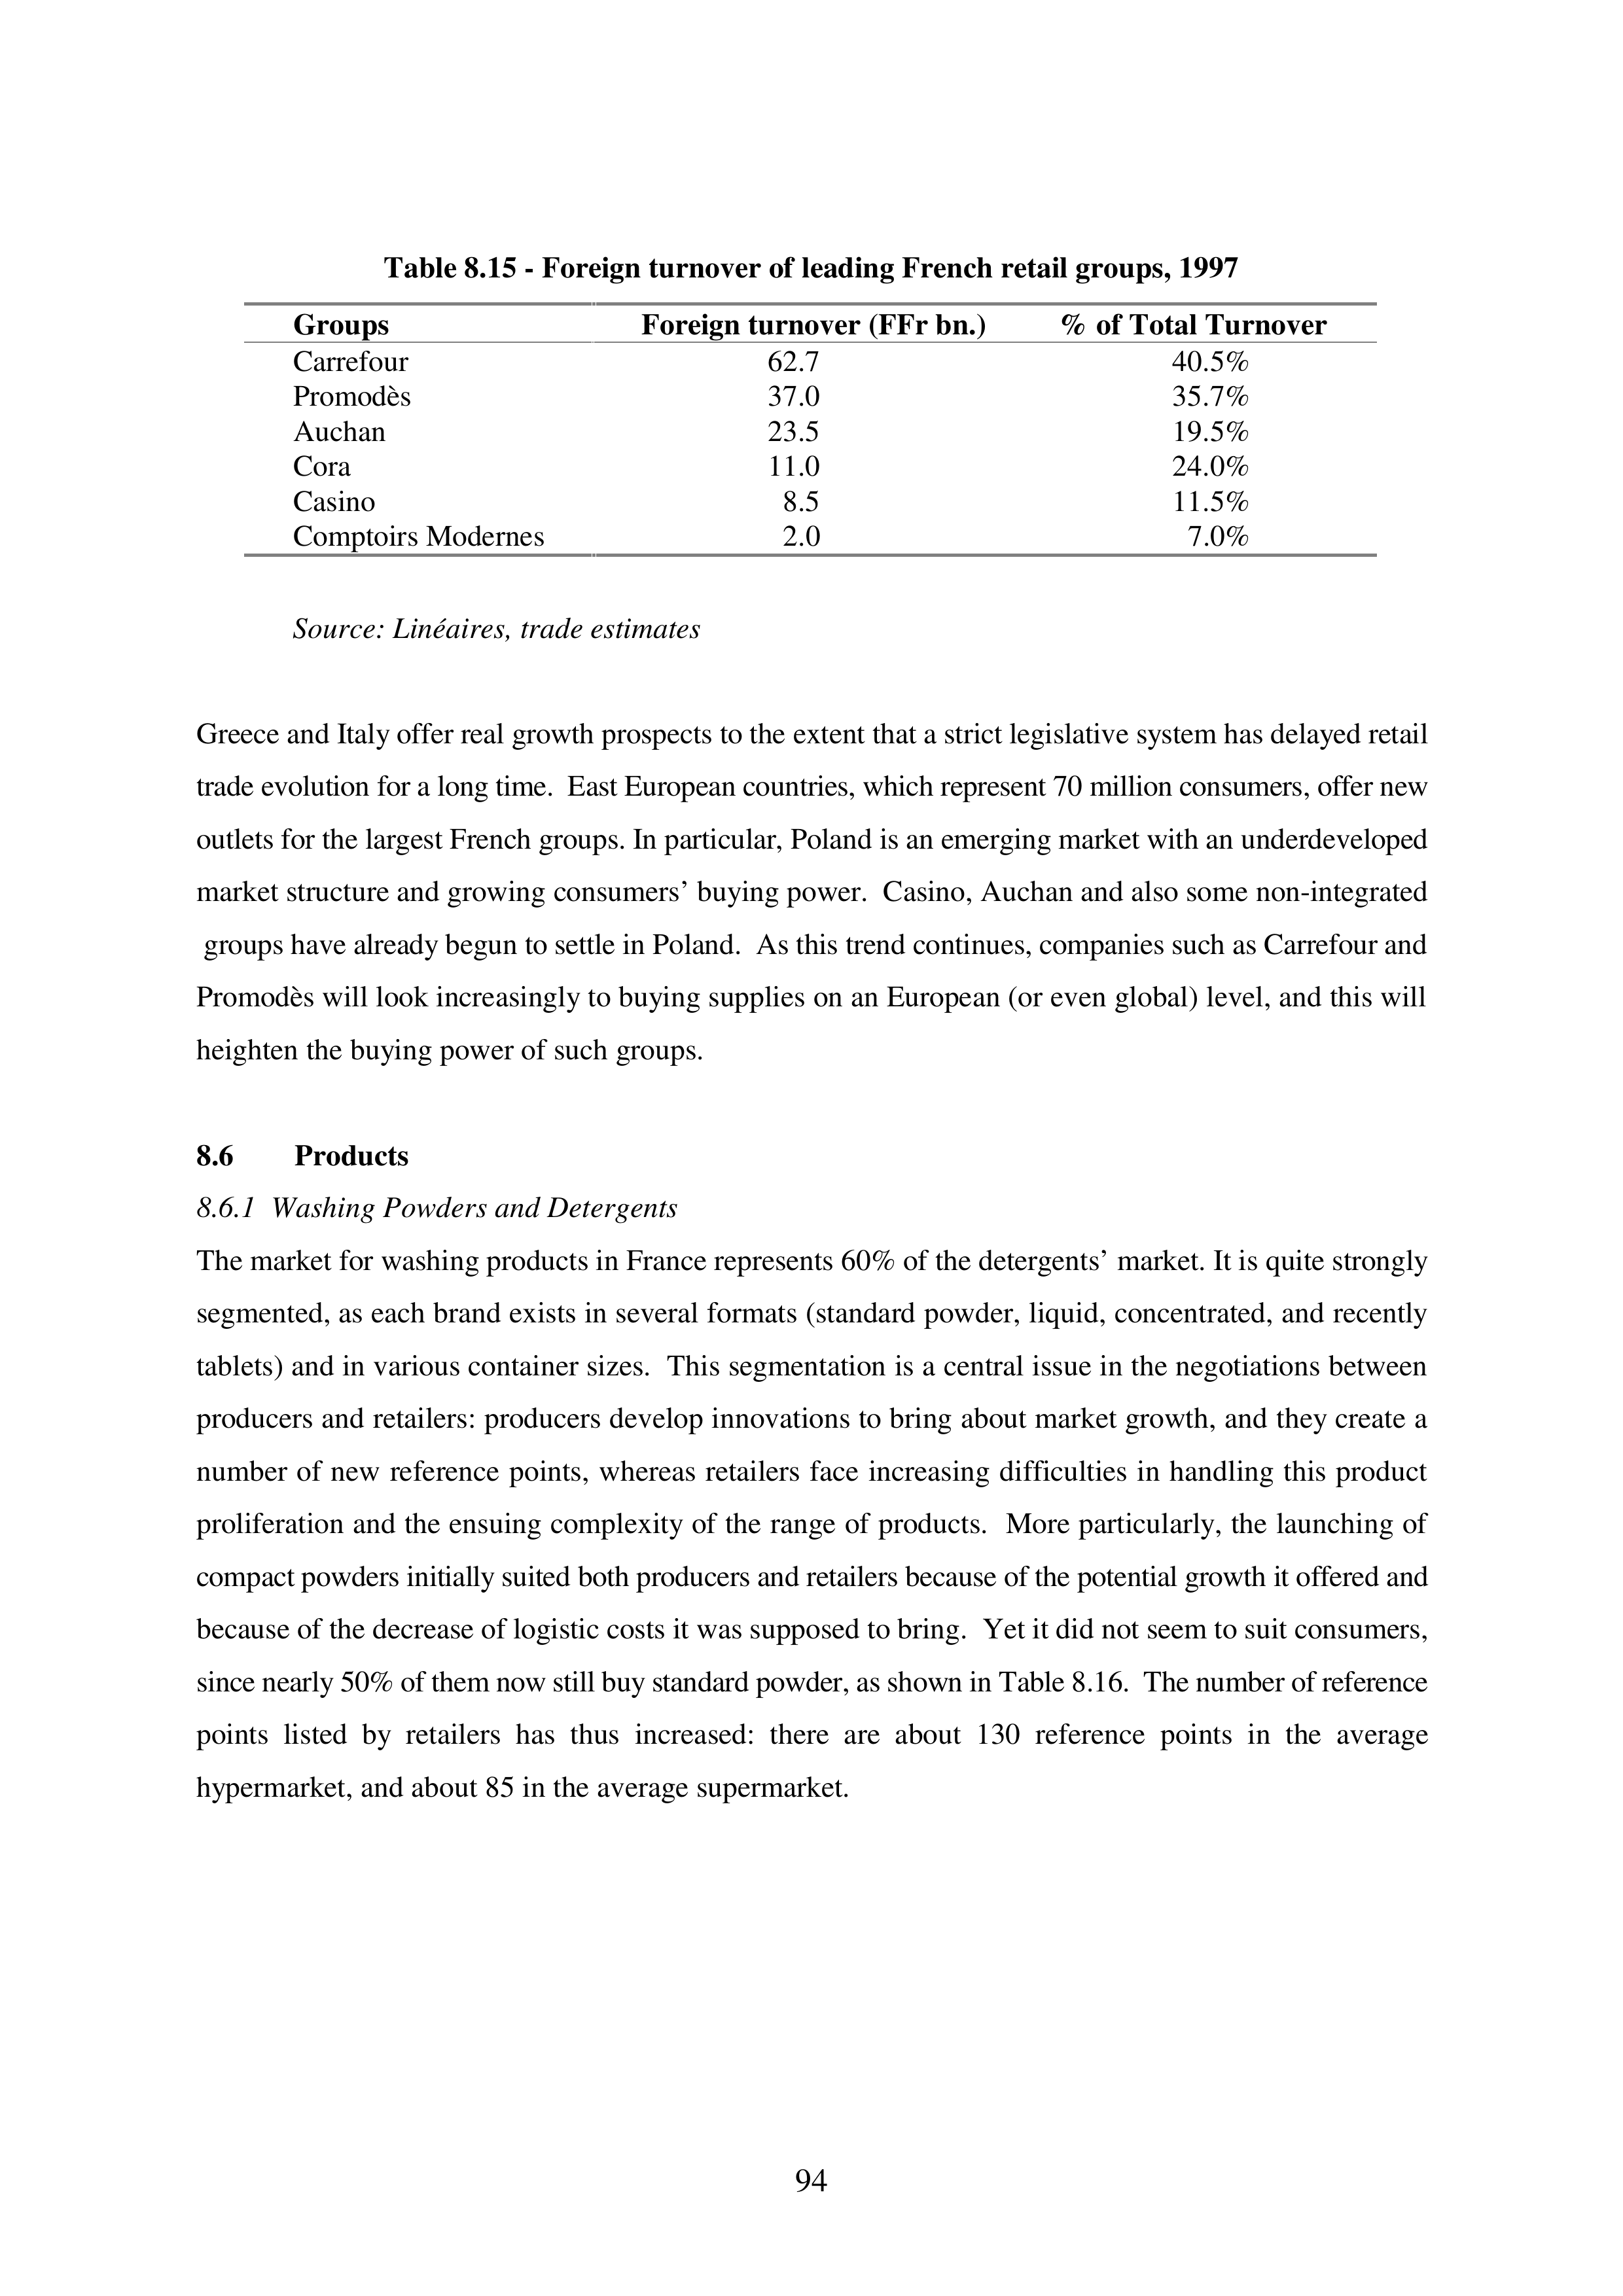table: (242, 297, 1382, 558)
